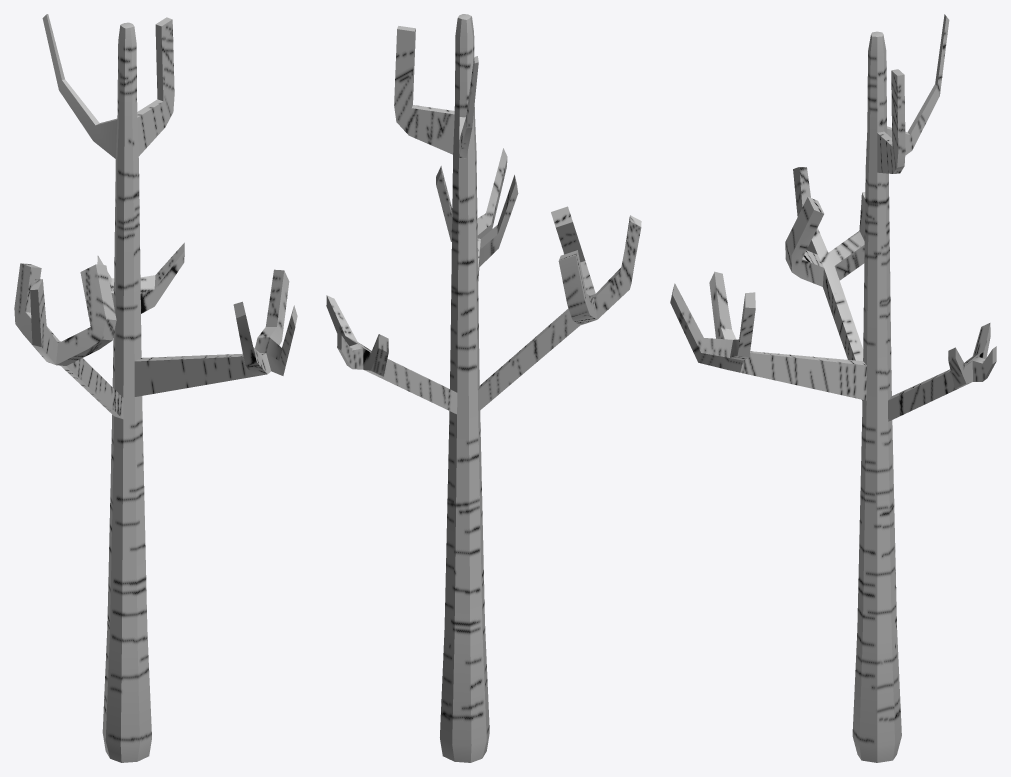
The model's file is Tree No Leaves.fbx.
3 renders of one model, left to right at view 1: azimuth 30°, elevation 25°; view 2: azimuth 150°, elevation 25°; view 3: azimuth 270°, elevation 25°, orthographic. The views are drawn at different scales.
Parts seen in each view (by area): view 1: Tree No Leaves; view 2: Tree No Leaves; view 3: Tree No Leaves.
Part boxes in pixels (bbox=[...]): Tree No Leaves: bbox=[14, 14, 297, 762]; Tree No Leaves: bbox=[326, 14, 641, 762]; Tree No Leaves: bbox=[670, 14, 996, 762].
Bounding box in the file's own units: 2602 × 7809 × 3198.
